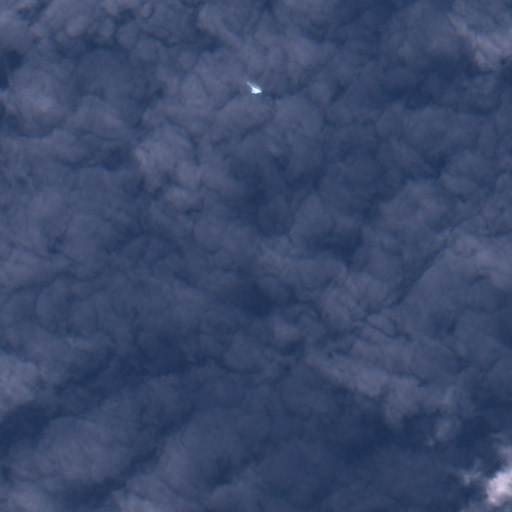Iceberg: (247, 82, 261, 93)
